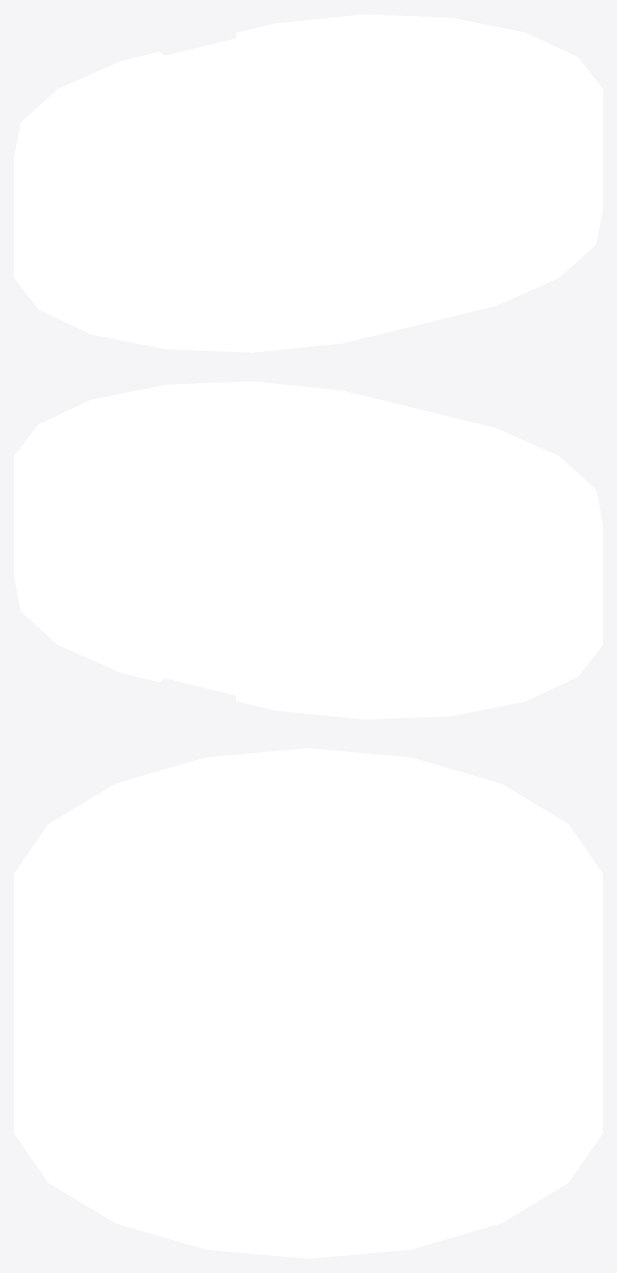
File: DuckieSpaceAge.glb
3 views of the same model, one above another, from view 1: azimuth 30°, elevation 25°; view 2: azimuth 150°, elevation 25°; view 3: azimuth 270°, elevation 25° (orthographic). The views are drawn at different scales.
Parts seen in each view (by area): view 1: Cylinder.001, Cylinder; view 2: Cylinder.001, Cylinder, Cylinder.002, Footrest; view 3: Cylinder.001, Cylinder.
Part boxes in pixels (box(x1,y1,x2,y2)): Cylinder.001: box(28, 20, 587, 226); Cylinder: box(14, 14, 602, 352); Cylinder.001: box(29, 387, 588, 593); Cylinder: box(14, 381, 602, 719); Cylinder.002: box(165, 565, 240, 695); Footrest: box(165, 558, 198, 605); Cylinder.001: box(28, 757, 588, 1089); Cylinder: box(14, 748, 602, 1258).
Size of the model in its own units: 14.08 by 3 by 10.
2 materials, 1 textured.
